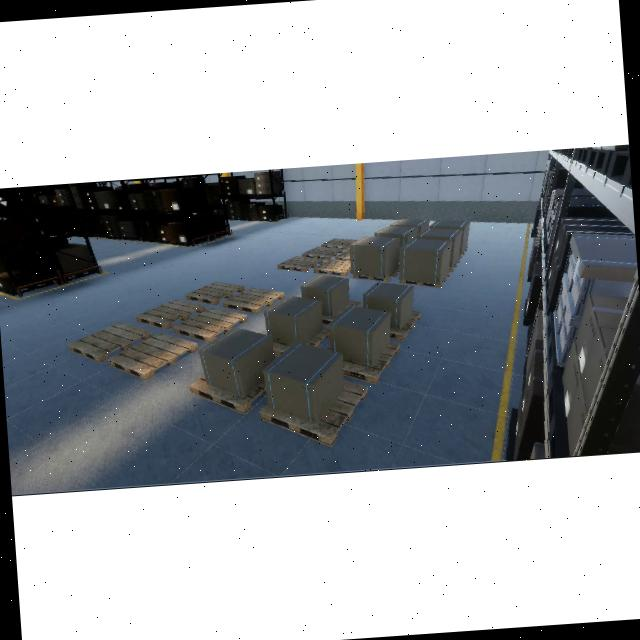wooden_pallet: (259, 379, 368, 447), (110, 332, 201, 380), (67, 320, 152, 362), (189, 373, 268, 413), (173, 307, 248, 342), (342, 341, 399, 384), (135, 298, 205, 328), (222, 286, 284, 314), (185, 280, 244, 305), (398, 269, 450, 288), (389, 310, 421, 340), (353, 264, 400, 281), (277, 255, 323, 271), (312, 258, 350, 274), (302, 246, 343, 259), (320, 237, 356, 249), (334, 247, 350, 261)
